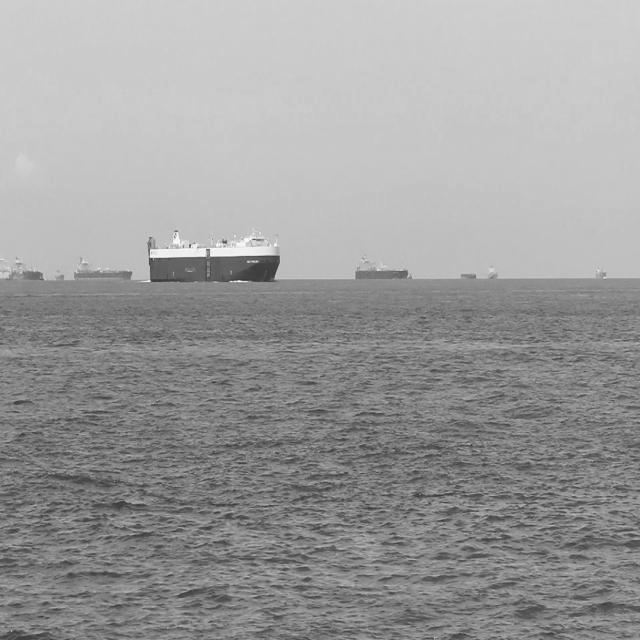ship: (145, 234, 281, 284), (354, 252, 406, 282), (8, 250, 44, 288), (71, 256, 131, 278), (0, 257, 15, 285), (482, 262, 500, 284), (458, 268, 478, 284), (592, 261, 607, 282), (54, 264, 66, 286), (406, 272, 414, 282)
